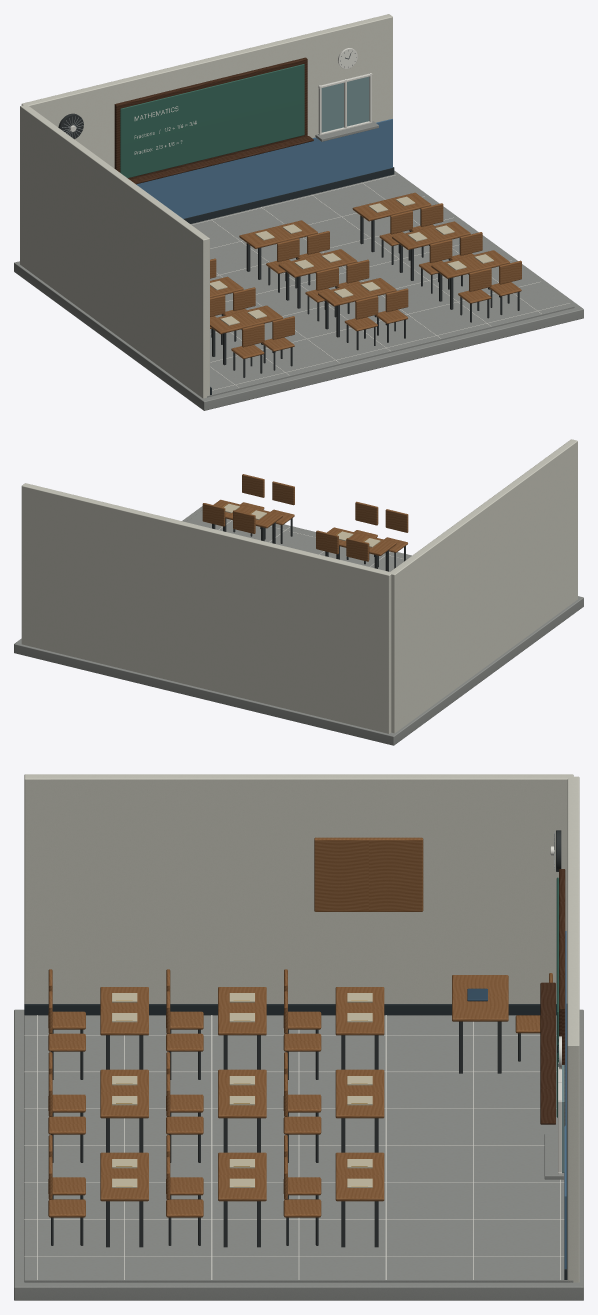
Rendered from lagos-classroom.glb.
3 views of the same model, one above another, from view 1: azimuth 30°, elevation 25°; view 2: azimuth 150°, elevation 25°; view 3: azimuth 270°, elevation 25° (orthographic). The views are drawn at different scales.
Parts seen in each view (by area): view 1: Side wall, Finished floor, Rear wall, Chalkboard, Painted lower wall, Floor slab, Blackboard frame, Window glass, Rear skirting, Chalk ledge, Oak table top.005, Oak table top.007 (+5 smaller); view 2: Rear wall, Side wall, Floor slab, Finished floor, Oak table top.002, Oak table top.001, Chair back.003, Chair back.008, Chair back.011, Chair back.002, Chair back.005, Chair back.004 (+2 smaller); view 3: Side wall, Finished floor, Floor slab, Notice board, Rear wall, Side skirting, Oak table top.009, Chalk ledge, Oak table top.007, Oak table top.008, Oak table top.006, Oak table top.001 (+19 smaller).
Part boxes in pixels (left/top/right/bottom): Side wall: left=20, top=104, right=209, bottom=398; Finished floor: left=190, top=174, right=574, bottom=397; Rear wall: left=21, top=14, right=392, bottom=168; Chalkboard: left=120, top=64, right=304, bottom=178; Painted lower wall: left=136, top=119, right=392, bottom=218; Floor slab: left=14, top=170, right=583, bottom=410; Blackboard frame: left=114, top=57, right=307, bottom=179; Window glass: left=321, top=76, right=369, bottom=132; Rear skirting: left=183, top=167, right=394, bottom=223; Chalk ledge: left=130, top=136, right=313, bottom=184; Oak table top.005: left=392, top=221, right=470, bottom=249; Oak table top.007: left=239, top=220, right=317, bottom=248; Rear wall: left=21, top=483, right=391, bottom=733; Side wall: left=389, top=439, right=577, bottom=733; Floor slab: left=14, top=506, right=583, bottom=745; Finished floor: left=186, top=510, right=410, bottom=571; Oak table top.002: left=213, top=499, right=282, bottom=528; Oak table top.001: left=327, top=527, right=396, bottom=555; Chair back.003: left=355, top=501, right=378, bottom=525; Chair back.008: left=346, top=538, right=369, bottom=561; Chair back.011: left=202, top=503, right=225, bottom=526; Chair back.002: left=385, top=509, right=408, bottom=532; Chair back.005: left=242, top=474, right=264, bottom=497; Chair back.004: left=272, top=481, right=294, bottom=505; Side wall: left=24, top=774, right=573, bottom=1003; Finished floor: left=24, top=1015, right=573, bottom=1282; Floor slab: left=14, top=1009, right=583, bottom=1300; Notice board: left=314, top=837, right=423, bottom=911; Rear wall: left=567, top=776, right=579, bottom=1282; Side skirting: left=24, top=1004, right=567, bottom=1015; Oak table top.009: left=452, top=975, right=508, bottom=1021; Chalk ledge: left=540, top=982, right=555, bottom=1124; Oak table top.007: left=335, top=1069, right=384, bottom=1118; Oak table top.008: left=335, top=1152, right=384, bottom=1201; Oak table top.006: left=335, top=987, right=384, bottom=1035; Oak table top.001: left=100, top=1069, right=148, bottom=1118.
Size of the model in its own units: 7.54 by 3.18 by 6.54.
14 materials, 4 textured.
